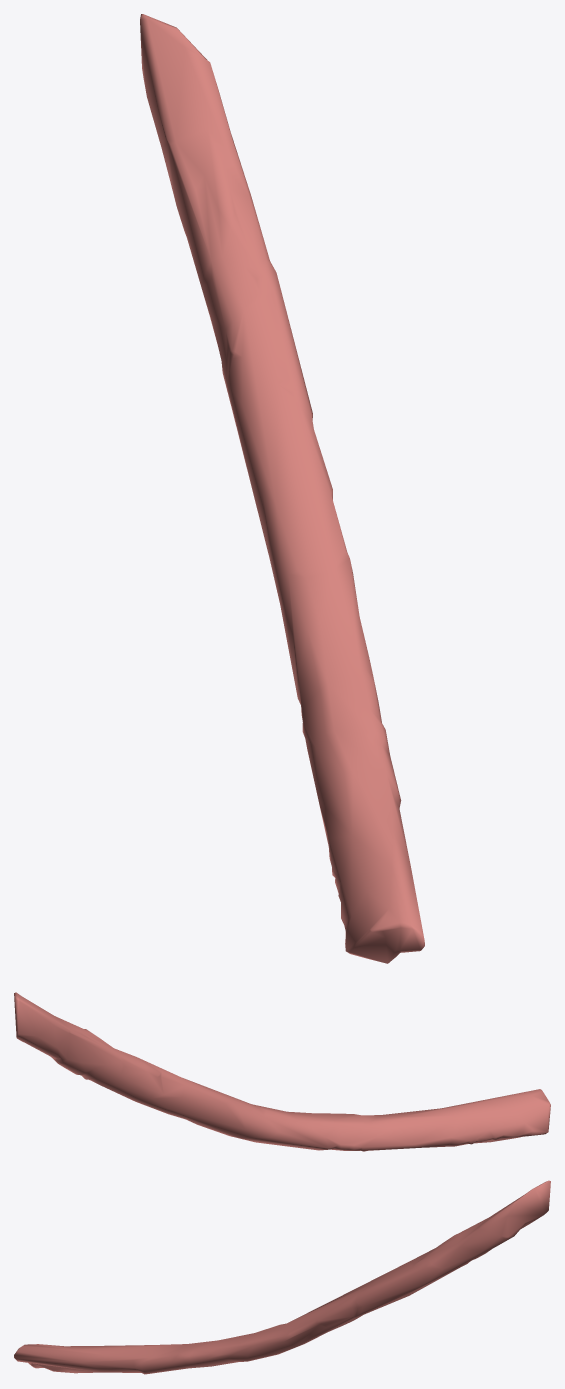
3 views of the same model, one above another, from view 1: azimuth 30°, elevation 25°; view 2: azimuth 150°, elevation 25°; view 3: azimuth 270°, elevation 25° (orthographic). The views are drawn at different scales.
Visible parts, largest first — view 1: ZA_48c972934a09d05e; view 2: ZA_48c972934a09d05e; view 3: ZA_48c972934a09d05e.
Boxes of the visible parts, left/top/right/bottom form: ZA_48c972934a09d05e: left=140, top=14, right=424, bottom=963; ZA_48c972934a09d05e: left=14, top=992, right=550, bottom=1151; ZA_48c972934a09d05e: left=14, top=1180, right=550, bottom=1374.
Size of the model in its own units: 0.0238 by 0.0341 by 0.0653.
